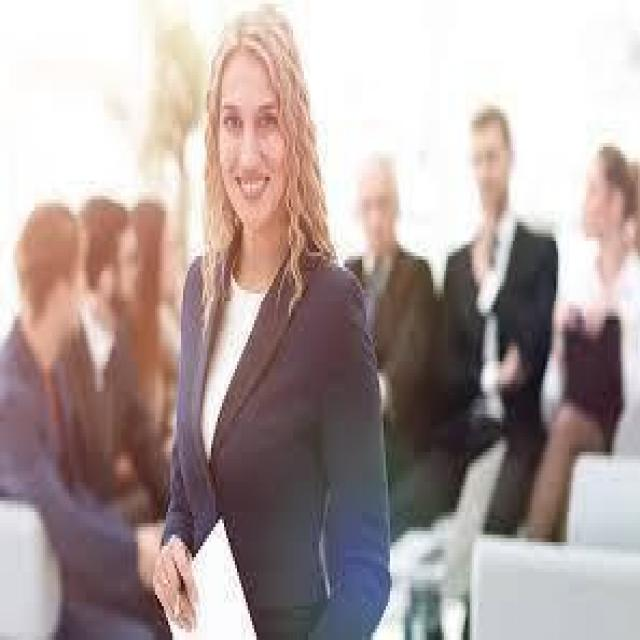person: (162, 0, 392, 636), (429, 45, 560, 501), (11, 158, 123, 629), (334, 94, 446, 516), (541, 105, 638, 448), (78, 121, 140, 478)
